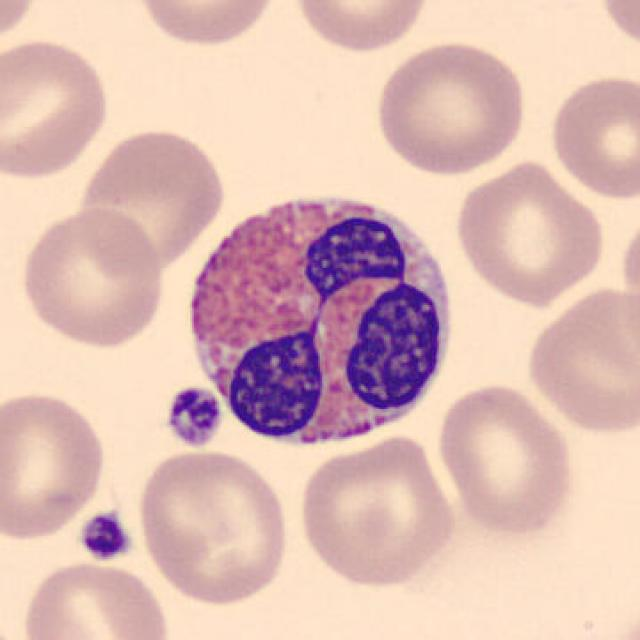Eosinophil: (171, 175, 462, 460)
Platelets: (162, 384, 224, 450), (75, 510, 133, 564)
RBC: (294, 432, 461, 591), (134, 446, 294, 608), (450, 157, 610, 307), (434, 379, 578, 540), (73, 124, 227, 274), (369, 37, 532, 176), (14, 204, 167, 351), (521, 282, 638, 437), (0, 386, 110, 545), (0, 34, 114, 184), (18, 557, 174, 640), (546, 70, 638, 202), (288, 0, 434, 55), (129, 0, 282, 49), (617, 206, 640, 354), (594, 0, 640, 56), (0, 0, 44, 53), (596, 608, 638, 640)
